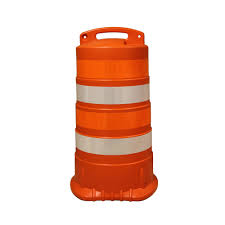barrel: (74, 28, 155, 201)
